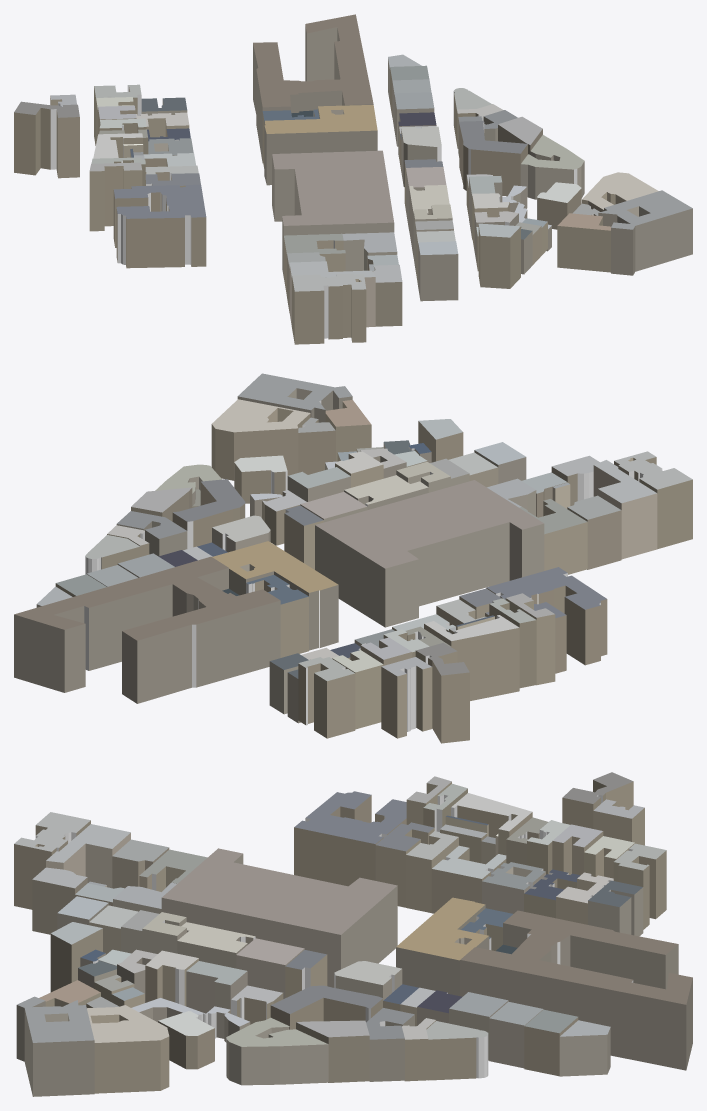
3 renders of one model, top to bottom at view 1: azimuth 30°, elevation 25°; view 2: azimuth 150°, elevation 25°; view 3: azimuth 270°, elevation 25°, orthographic. The views are drawn at different scales.
Parts seen in each view (by area): view 1: tuile; view 2: tuile; view 3: tuile.
Part boxes in pixels (x1,y1,x2,y2): tuile: (14,14,692,344); tuile: (14,373,692,743); tuile: (14,772,692,1096).
Bounding box in the file's own units: 251 × 39.69 × 288.
